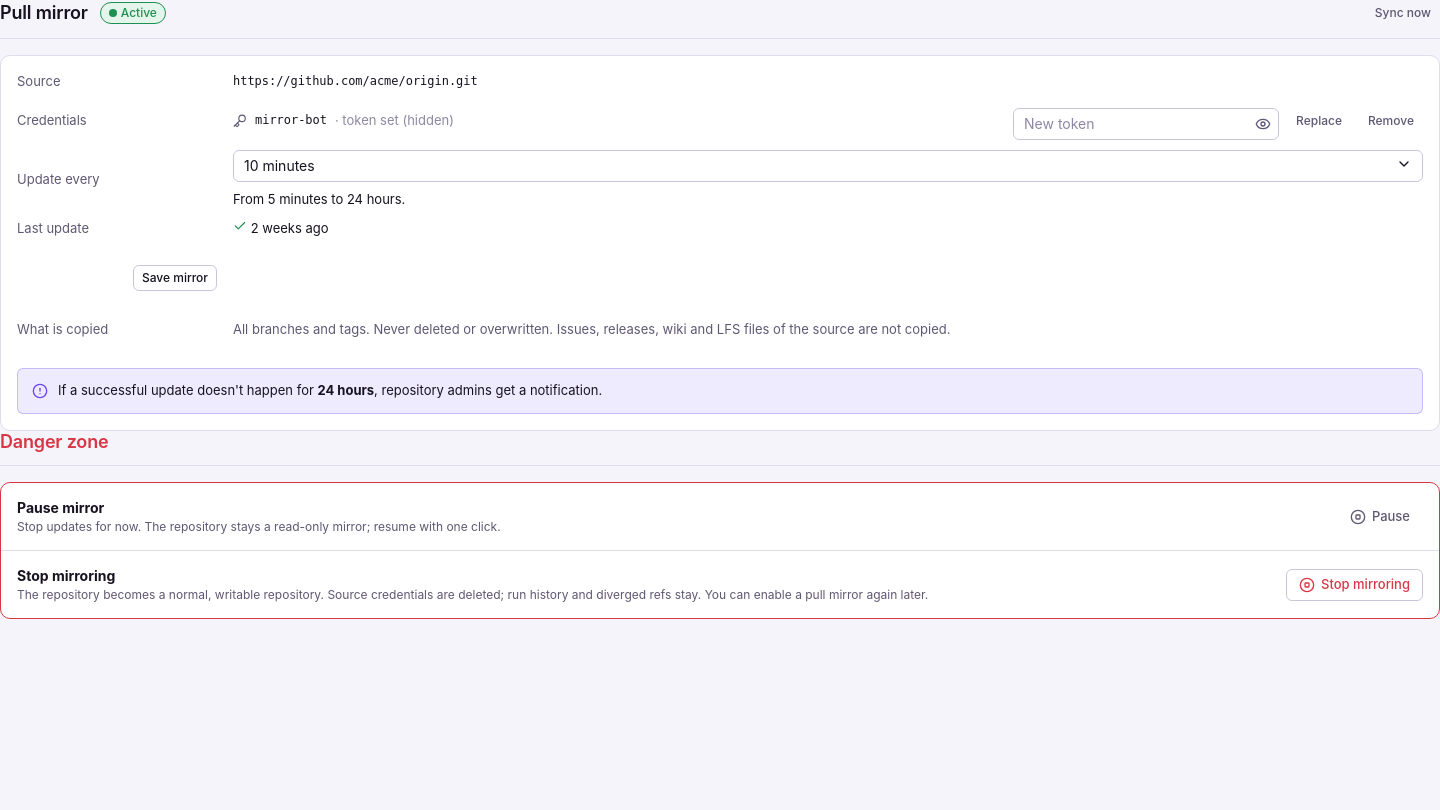
Scenario: PullMirrorSection › pulsante stop disabilitato finché il testo non corrisponde
The width and height of the screenshot is (1440, 810).
Check: the heading "Danger zone" is shown, box [0,430,108,453]
Click the button "Stop mirroring".
click(1354, 584)  # box [1286,568,1423,600]
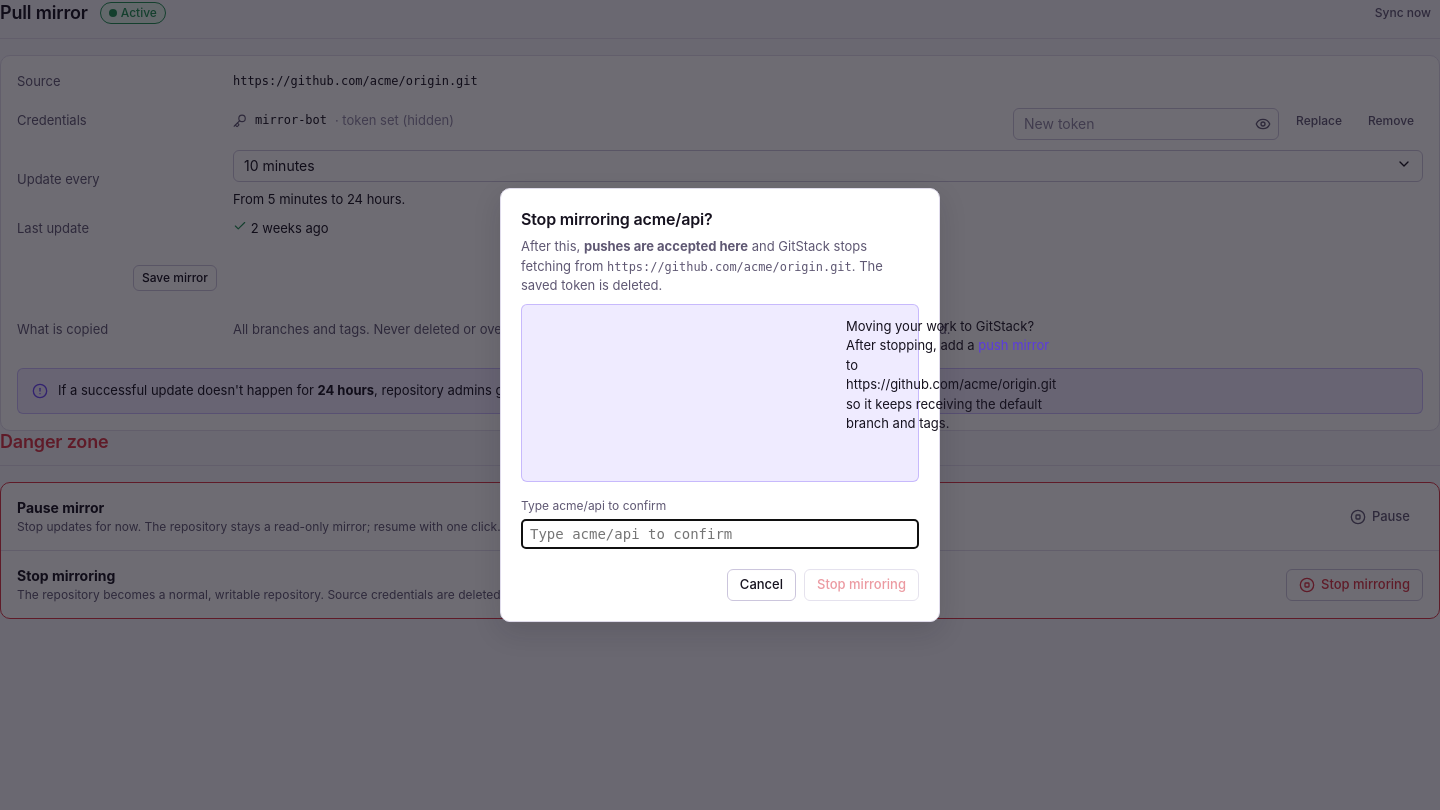
Check: the button "Stop mirroring" is disabled, box [804,569,919,601]
Scrivi il nome corretto (owner/repo)
Type "acme/api" into the field with placeholder "Type acme/api to confirm".
click(720, 534); type("acme/api")  # box [521,519,919,549]
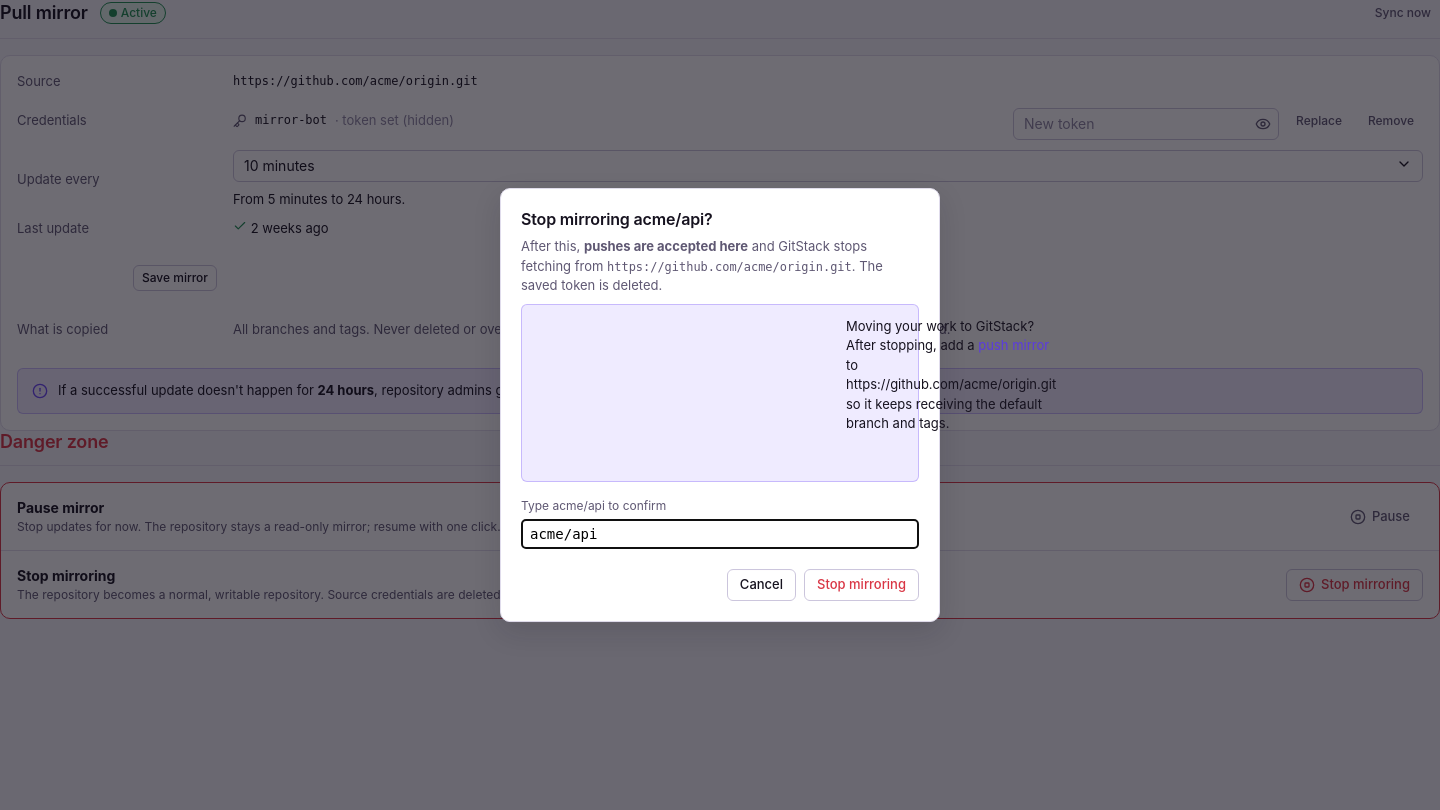
Check: the button "Stop mirroring" is enabled, box [804,569,919,601]
